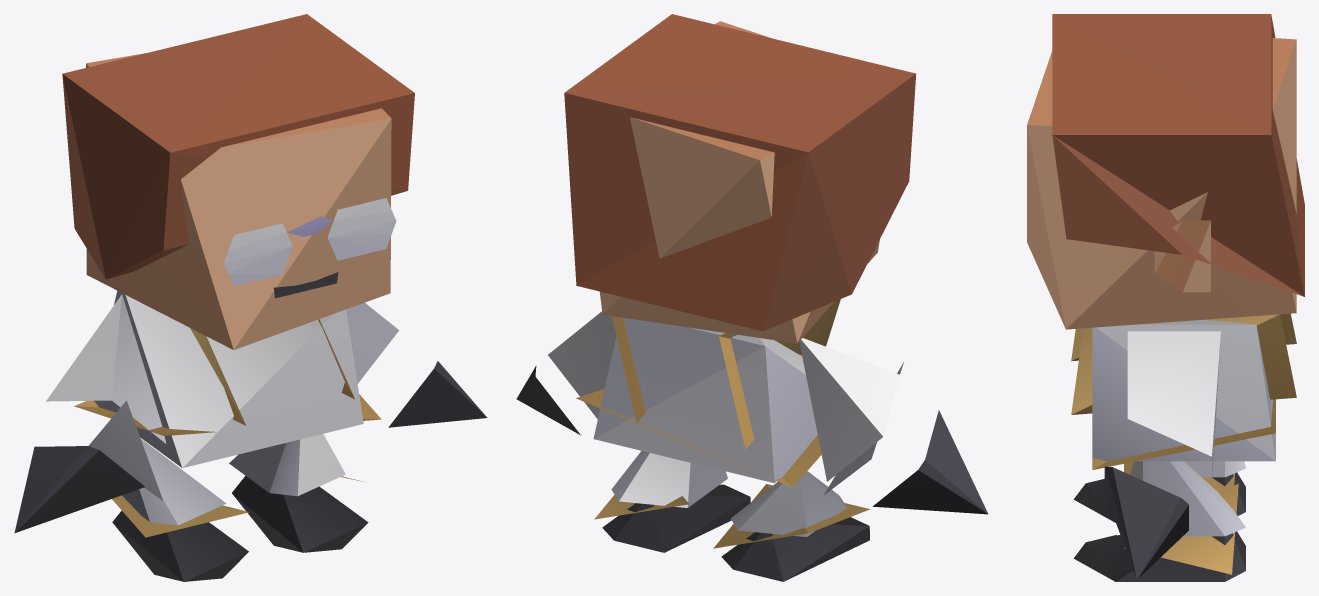
The model's file is person-male-e.glb.
3 views of the same model, side by side, from view 1: azimuth 30°, elevation 25°; view 2: azimuth 150°, elevation 25°; view 3: azimuth 270°, elevation 25° (orthographic).
Visible parts, largest first — view 1: character-male-e; view 2: character-male-e; view 3: character-male-e.
Boxes of the visible parts, x1,y1,x2,y2 form: character-male-e: (14,14,487,581); character-male-e: (516,14,987,581); character-male-e: (1027,14,1304,581).
Size of the model in its own units: 1.68 by 1.52 by 0.872.
